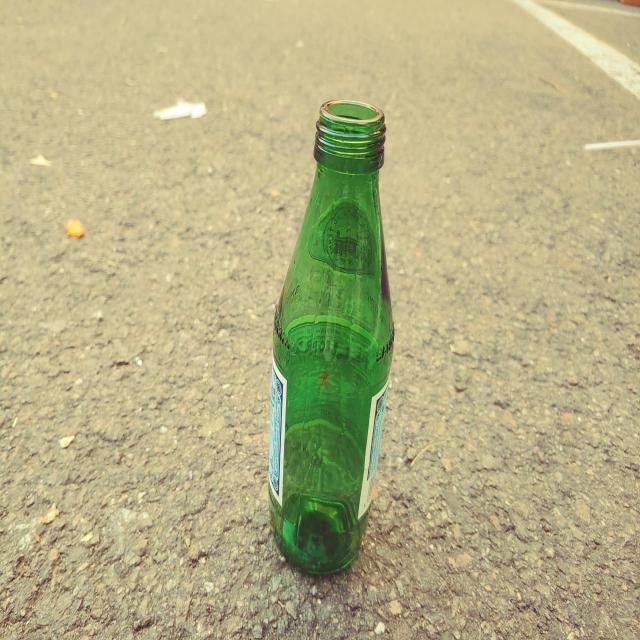glass: (269, 100, 395, 574)
